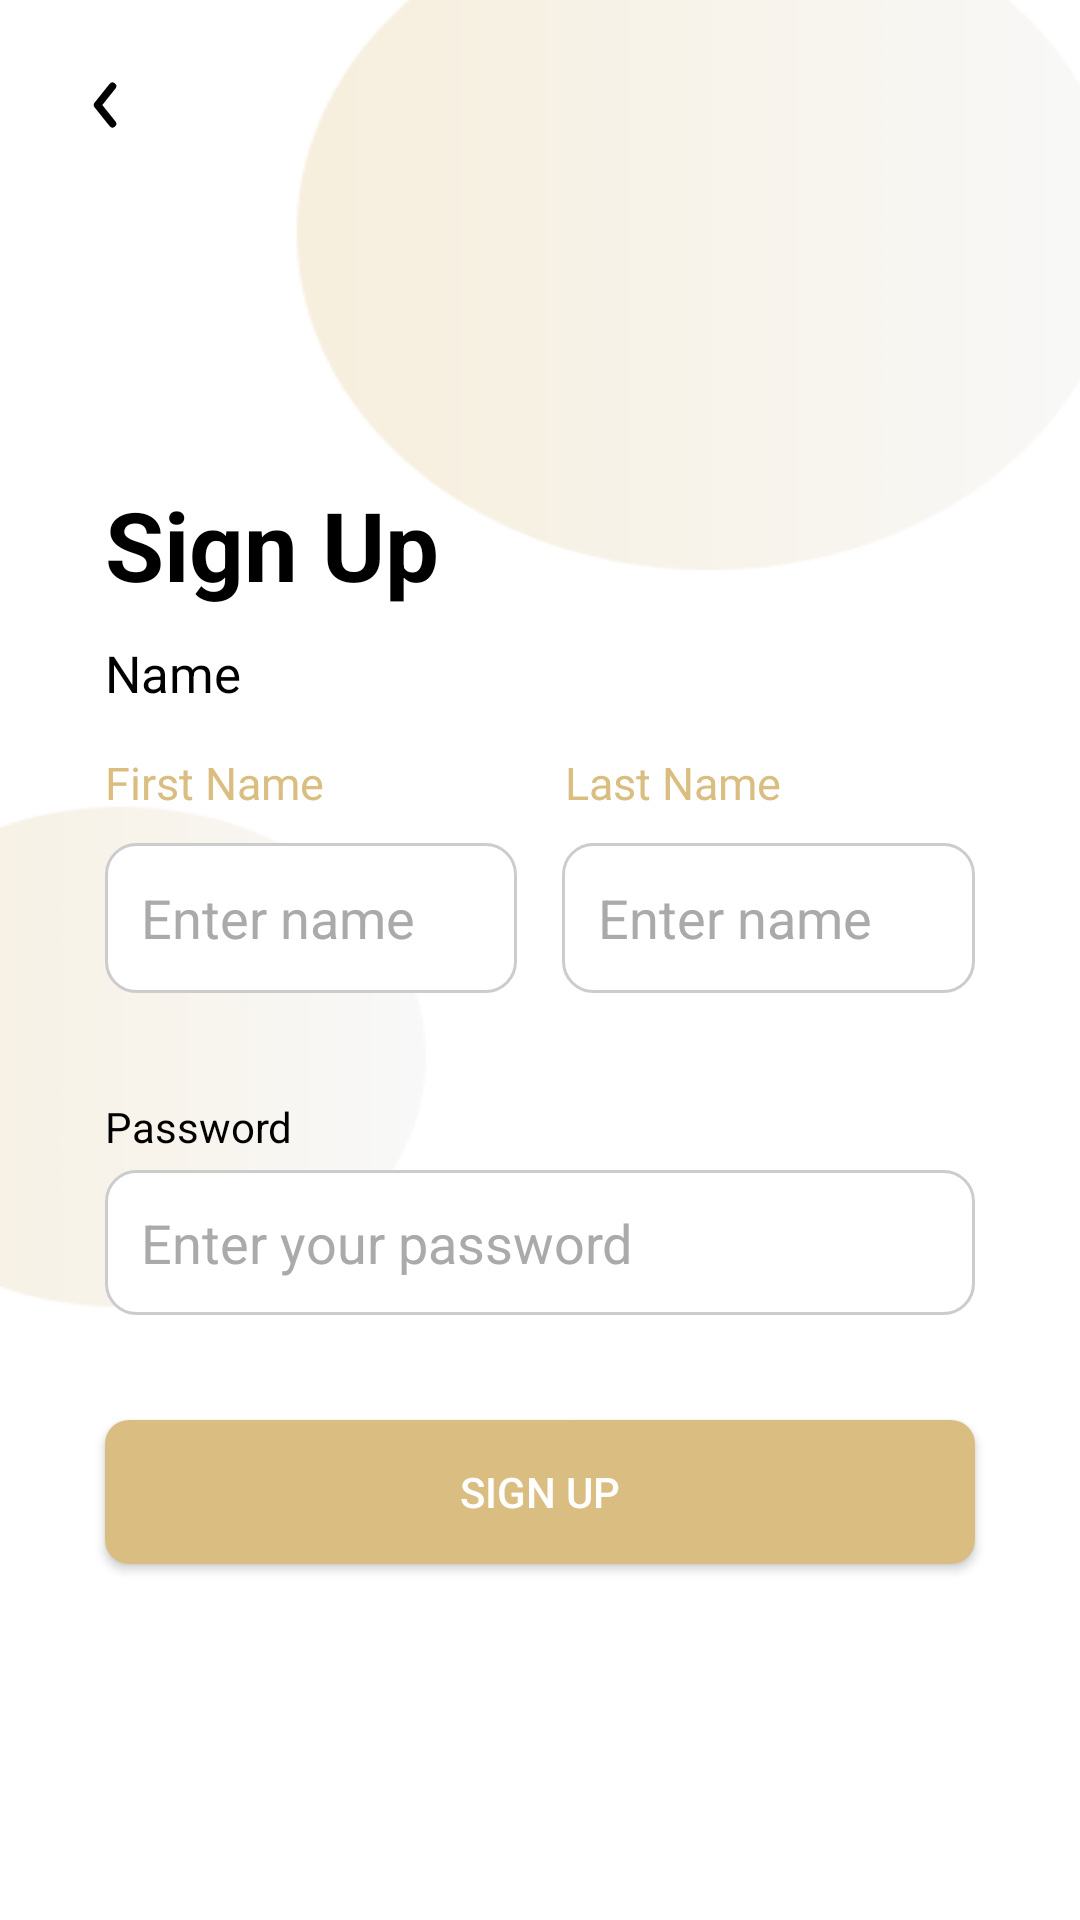

Named icons in this screenshot (1080px×1920px) and their bounding boxes, (x1, y1, x2, y2):
Back Button: (93, 82, 117, 128)
